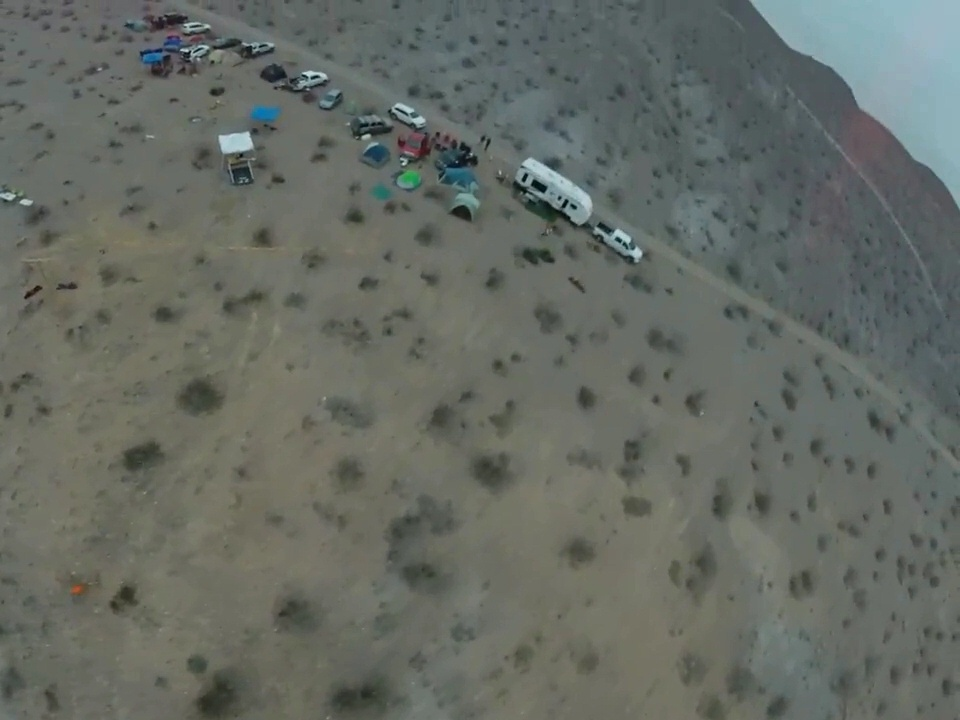araba: (388, 100, 433, 129), (243, 38, 275, 55), (320, 90, 342, 110)
insan: (484, 135, 498, 152)
kamyonet: (593, 219, 645, 268), (291, 68, 328, 92)
